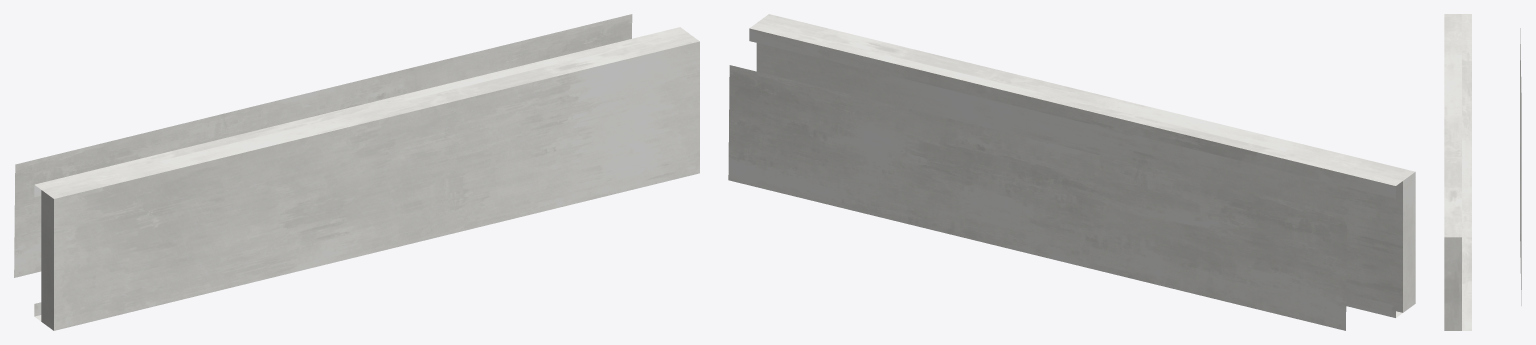
File: namePlate.glb
3 renders of one model, left to right at view 1: azimuth 30°, elevation 25°; view 2: azimuth 150°, elevation 25°; view 3: azimuth 270°, elevation 25°, orthographic. The views are drawn at different scales.
Visible parts, largest first — view 1: Holder, Tag; view 2: Tag, Holder; view 3: Holder, Tag.
Boxes of the visible parts, x1=… form: Holder: x1=34, y1=27, x2=699, y2=330; Tag: x1=14, y1=14, x2=632, y2=277; Tag: x1=728, y1=65, x2=1346, y2=330; Holder: x1=749, y1=14, x2=1415, y2=317; Holder: x1=1444, y1=14, x2=1471, y2=330; Tag: x1=1520, y1=28, x2=1521, y2=305.
Bounding box in the file's own units: 0.5345 × 0.1043 × 0.0784.
1 material, 1 textured.
